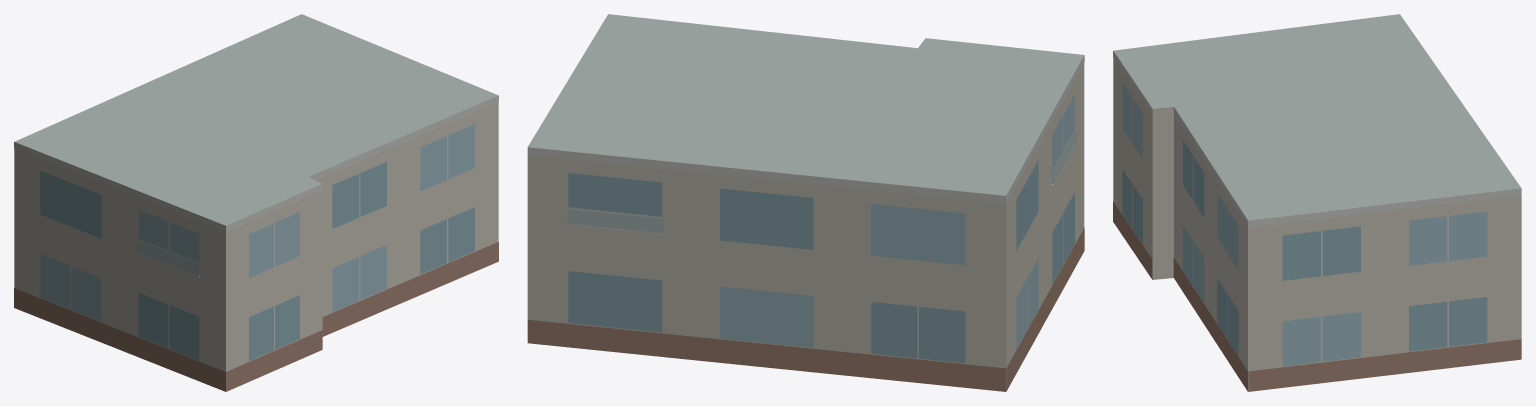
The model's file is survey-upis-32916687.glb.
The picture shows the model from 3 angles, left to right: view 1: azimuth 30°, elevation 25°; view 2: azimuth 150°, elevation 25°; view 3: azimuth 270°, elevation 25°; orthographic projection. The views are drawn at different scales.
Parts seen in each view (by area): view 1: survey-upis-32916687.tmp; view 2: survey-upis-32916687.tmp; view 3: survey-upis-32916687.tmp.
Boxes of the visible parts, left/top/right/bottom form: survey-upis-32916687.tmp: left=14, top=14, right=498, bottom=391; survey-upis-32916687.tmp: left=527, top=14, right=1084, bottom=391; survey-upis-32916687.tmp: left=1113, top=14, right=1521, bottom=391.
Bounding box in the file's own units: 15.81 × 6.1 × 13.2.
